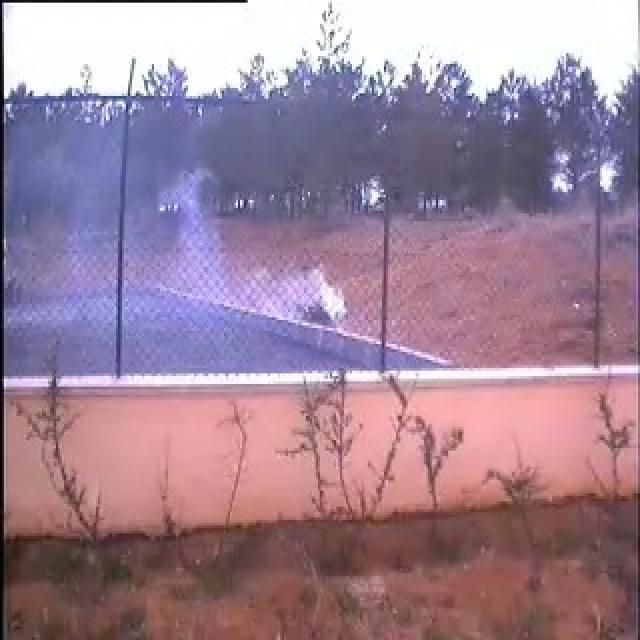Smoke: (125, 158, 345, 364)
